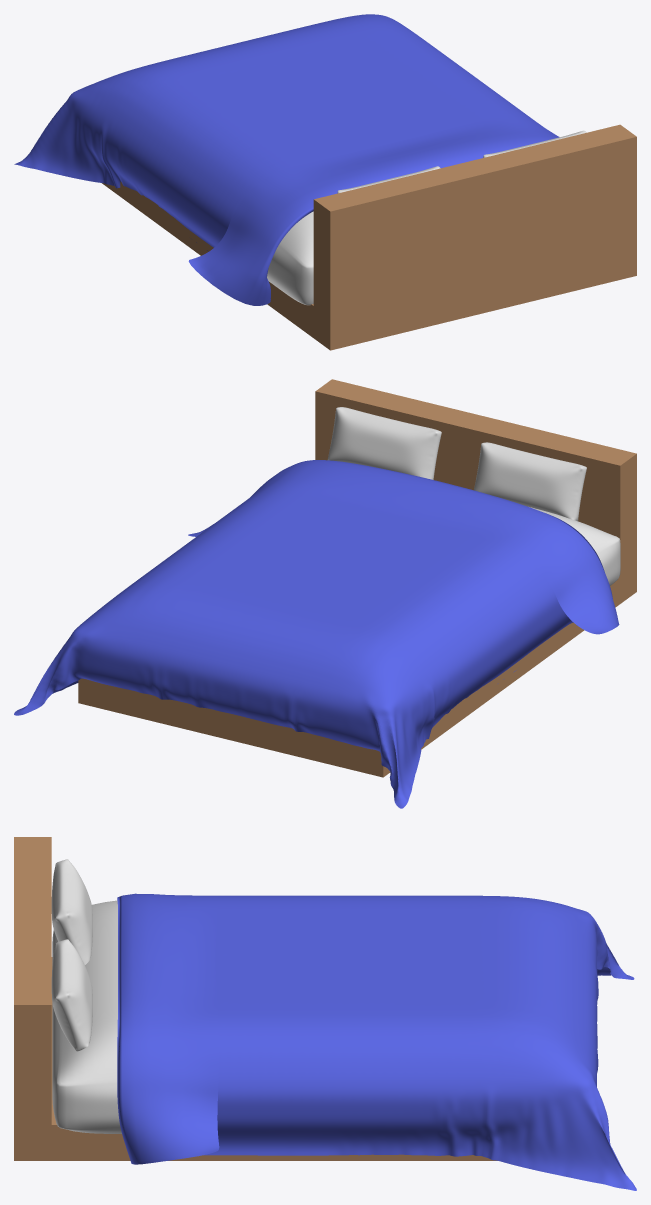
File: bed.glb
The picture shows the model from 3 angles, top to bottom: view 1: azimuth 30°, elevation 25°; view 2: azimuth 150°, elevation 25°; view 3: azimuth 270°, elevation 25°; orthographic projection. The views are drawn at different scales.
Parts seen in each view (by area): view 1: Plane, Cube, Cube.001; view 2: Plane, Cube, Cube.003, Cube.002, Cube.001; view 3: Plane, Cube, Cube.001, Cube.002, Cube.003.
Boxes of the visible parts, x1,y1,x2,y2 form: Plane: [14, 14, 559, 305]; Cube: [102, 124, 636, 350]; Cube.001: [267, 211, 313, 305]; Plane: [14, 460, 619, 808]; Cube: [78, 379, 636, 777]; Cube.003: [474, 442, 586, 521]; Cube.002: [327, 407, 441, 479]; Cube.001: [529, 507, 620, 585]; Plane: [117, 893, 636, 1190]; Cube: [14, 837, 497, 1160]; Cube.001: [52, 900, 121, 1133]; Cube.002: [51, 939, 92, 1051]; Cube.003: [51, 859, 92, 964].
Bounding box in the file's own units: 7.52 × 2.52 × 8.72.
